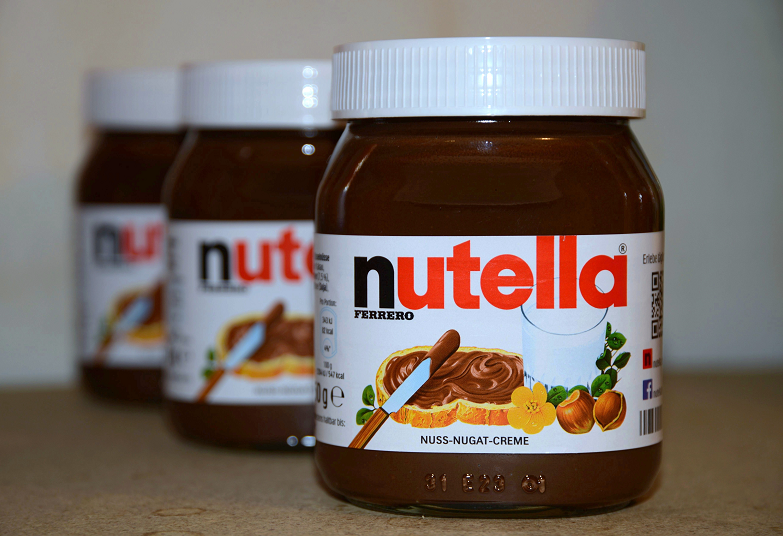nutella: (313, 33, 665, 517), (162, 55, 315, 454)
